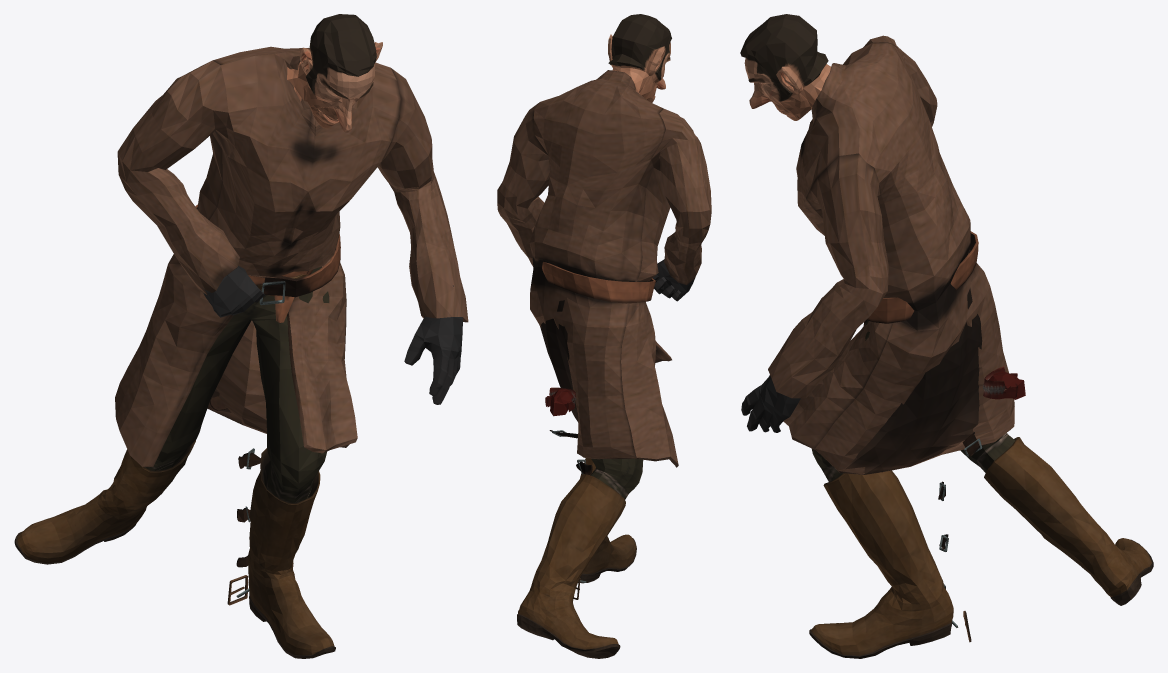
Rendered from sniper01_000018.obj.
3 views of the same model, side by side, from view 1: azimuth 30°, elevation 25°; view 2: azimuth 150°, elevation 25°; view 3: azimuth 270°, elevation 25° (orthographic). The views are drawn at different scales.
Visible parts, largest first — view 1: Tops, Shoes, Bottoms, BodyParts; view 2: Tops, Shoes, BodyParts, Bottoms; view 3: Tops, Shoes, BodyParts, Bottoms.
Boxes of the visible parts, bbox=[...] form: Tops: bbox=[115, 46, 468, 597]; Shoes: bbox=[14, 440, 335, 658]; Bottoms: bbox=[144, 266, 329, 605]; BodyParts: bbox=[203, 14, 462, 404]; Tops: bbox=[497, 70, 711, 582]; Shoes: bbox=[517, 458, 636, 658]; BodyParts: bbox=[545, 14, 695, 416]; Bottoms: bbox=[573, 458, 643, 599]; Tops: bbox=[768, 35, 1014, 627]; Shoes: bbox=[809, 437, 1153, 658]; BodyParts: bbox=[740, 14, 1025, 432]; Bottoms: bbox=[812, 253, 1015, 642].
Bounding box in the file's own units: 1.07 × 2.33 × 1.38.
